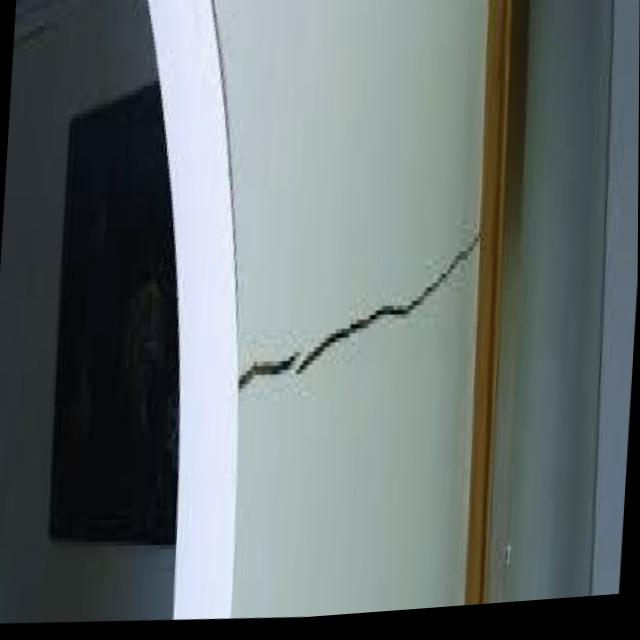Crack: (238, 330, 335, 398), (340, 290, 419, 343), (429, 233, 481, 292)
